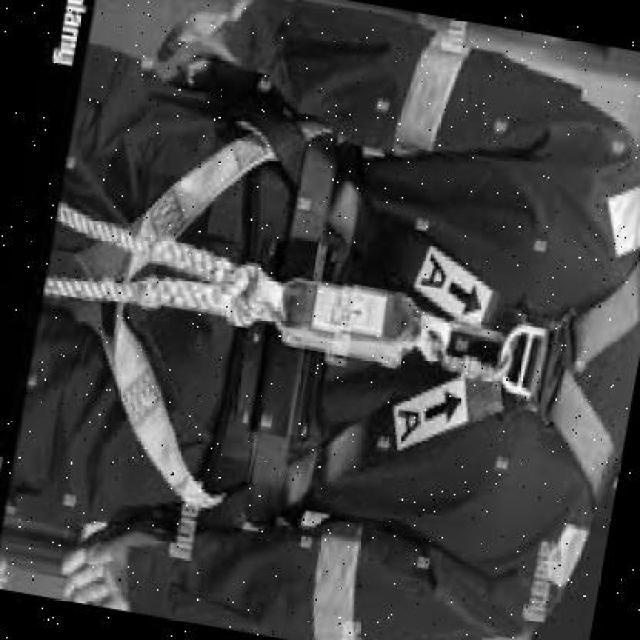Arnes_seguridad: (23, 33, 640, 630)
